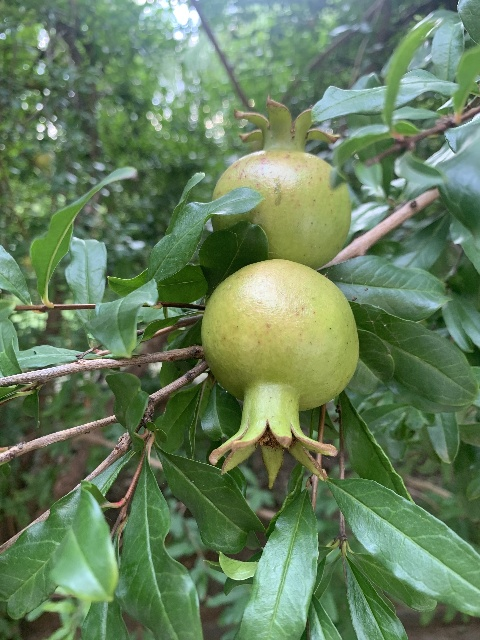mid-growth: (200, 258, 359, 489), (210, 95, 352, 269)
